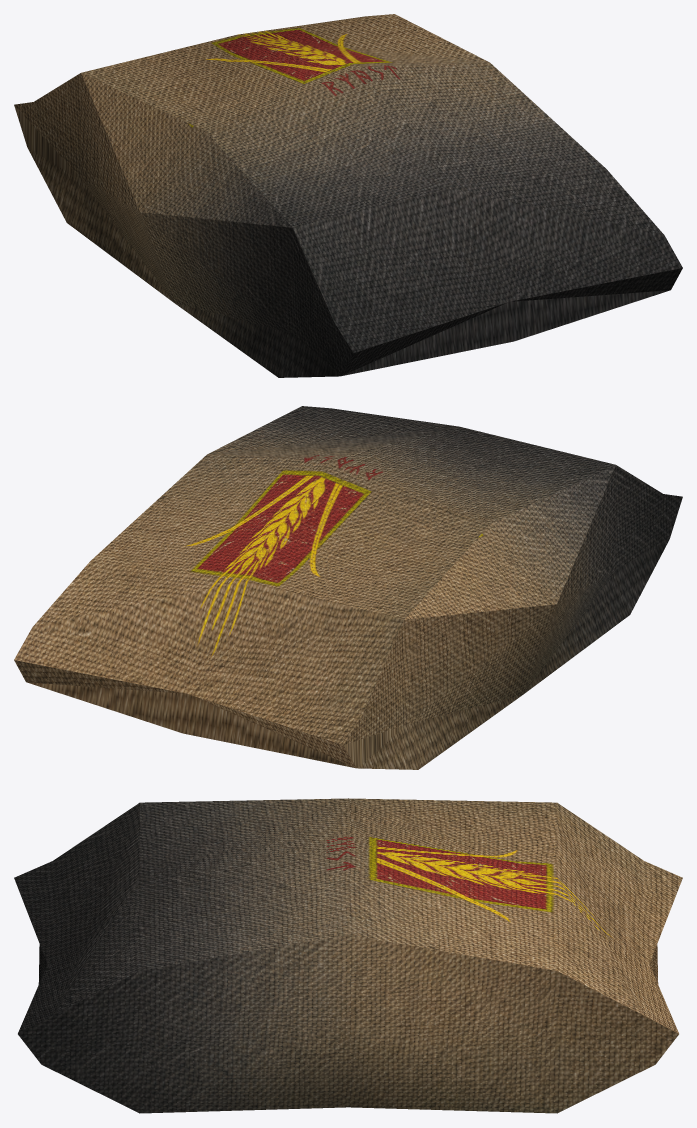
The model's file is mm9_deco_canvassack.glb.
3 views of the same model, one above another, from view 1: azimuth 30°, elevation 25°; view 2: azimuth 150°, elevation 25°; view 3: azimuth 270°, elevation 25° (orthographic).
Visible parts, largest first — view 1: Canvassack; view 2: Canvassack; view 3: Canvassack.
Part boxes in pixels (x1,y1,x2,y2): Canvassack: [14, 14, 682, 377]; Canvassack: [14, 406, 682, 769]; Canvassack: [14, 798, 682, 1113].
Bounding box in the file's own units: 0.6555 × 0.3207 × 0.9625.
1 material, 1 textured.
